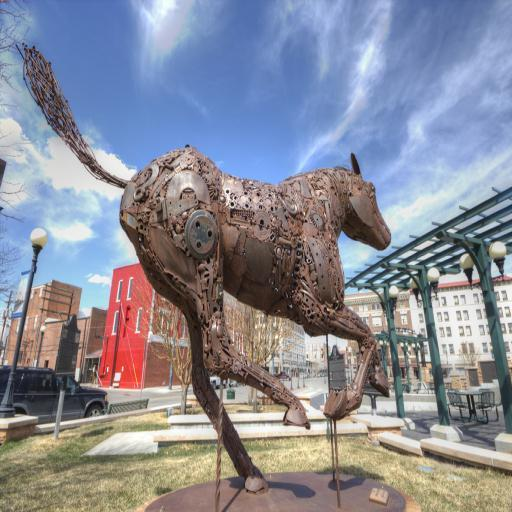horse: (16, 42, 392, 494)
